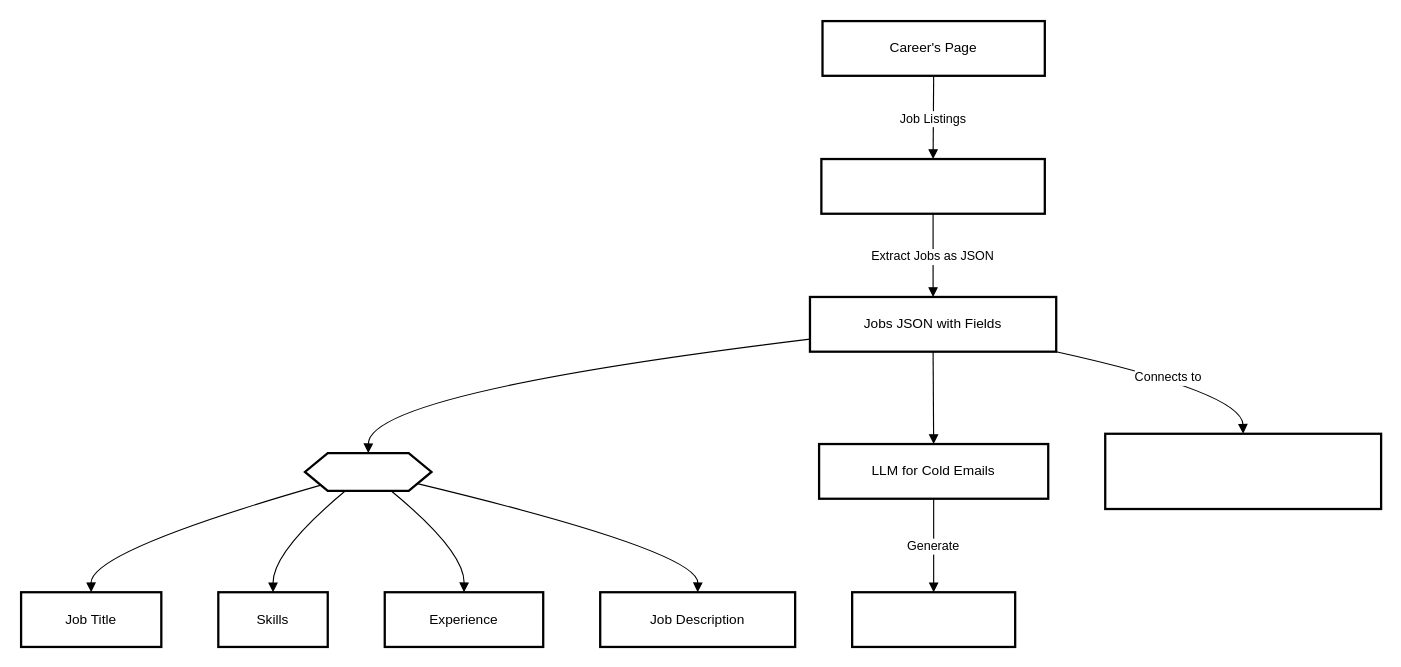
This 1401x667 diagram has some shape labels left out. The centre of each missing label's shape, as x and y in pixels:
Cold Emails: the point at 933,619
Job Details: the point at 367,471
LLM Job Extraction: the point at 932,185
Vector Store for Portfolio Links: the point at 1243,471
